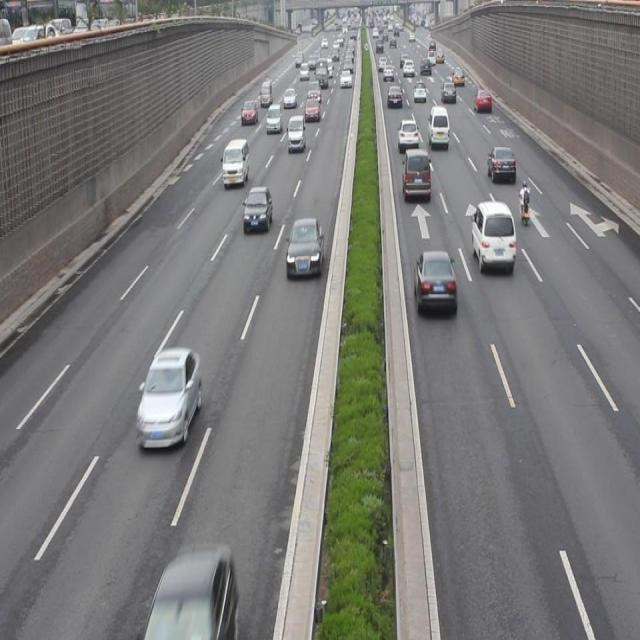car: (135, 346, 201, 452), (413, 250, 456, 314), (284, 216, 322, 277), (243, 186, 272, 232), (487, 145, 515, 184), (396, 117, 418, 150), (241, 99, 258, 125)
truck: (470, 199, 514, 274), (401, 146, 431, 200), (222, 138, 249, 186), (426, 105, 449, 149), (286, 114, 306, 152), (265, 102, 282, 134)
